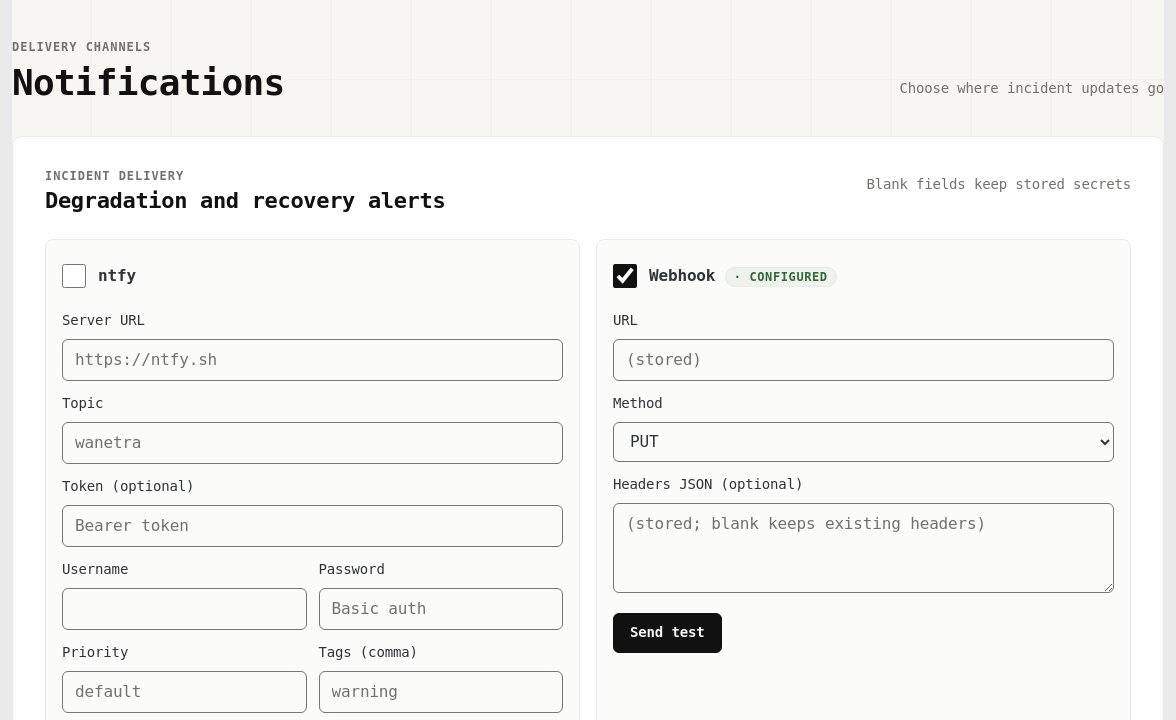
Test case: notification settings › reports a successful saved-provider test when the API returns an empty body
This screenshot has width=1176, height=720.
Click the button "Send test" at coordinates (667, 633), box [613,613,722,653]
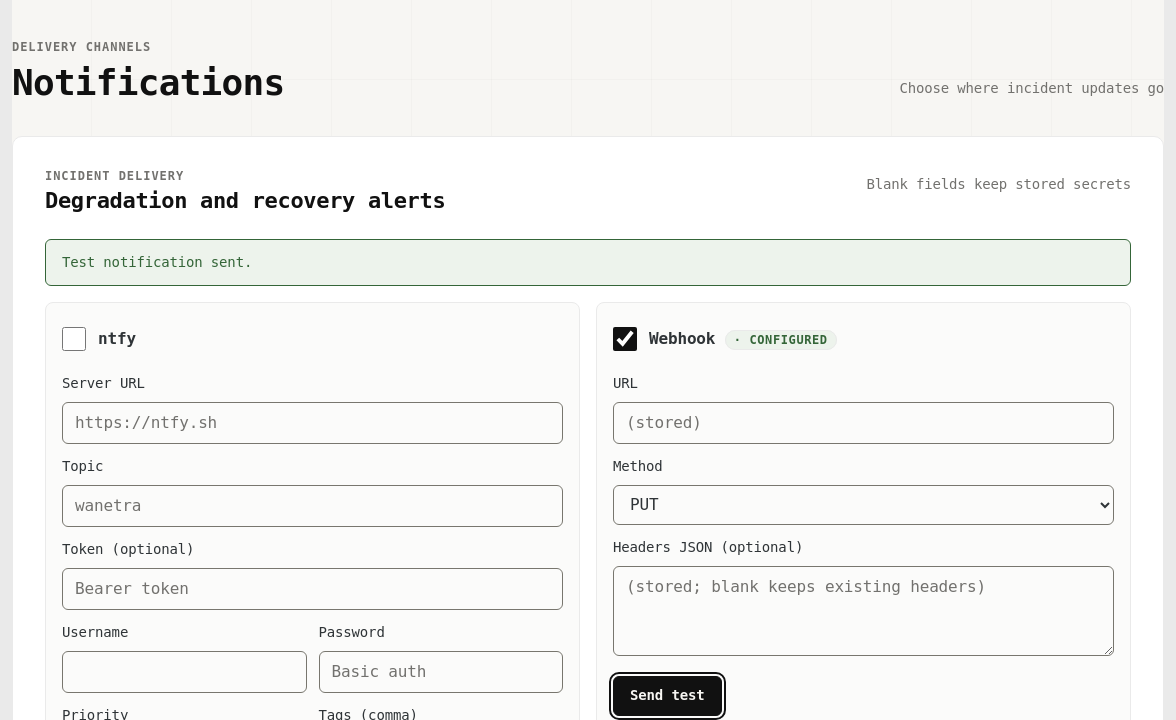
Result: the message reads "Test notification sent." at [62,254,252,270]
